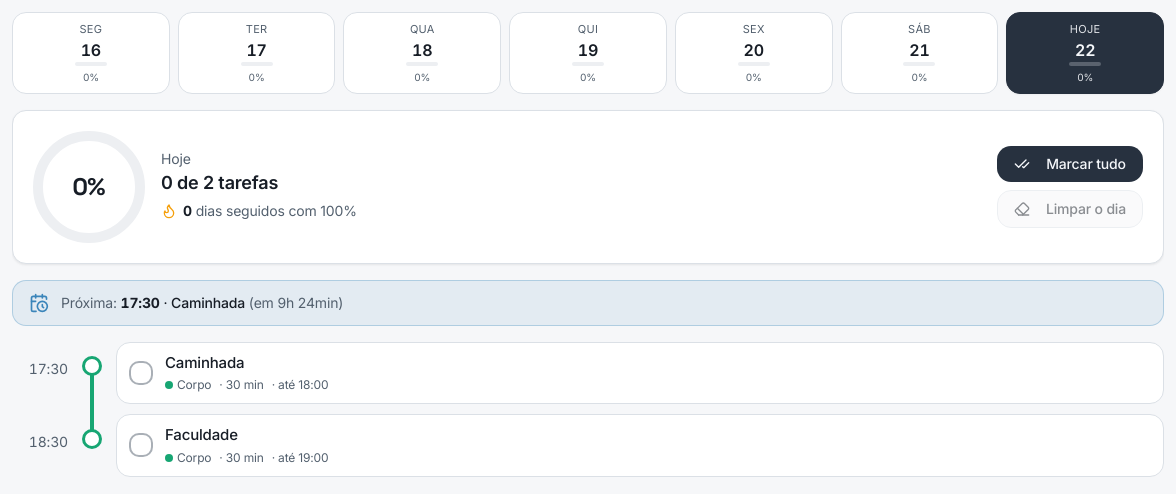
it: Rotina: marcar e desmarcar uma tarefa › atualiza a % na hora e grava a marcação
The width and height of the screenshot is (1176, 494).
Click the checkbox labelled "Caminhada Corpo · 30 min · até 18:00".
click(205, 362)  # box x1=116 y1=342 x2=1164 y2=404
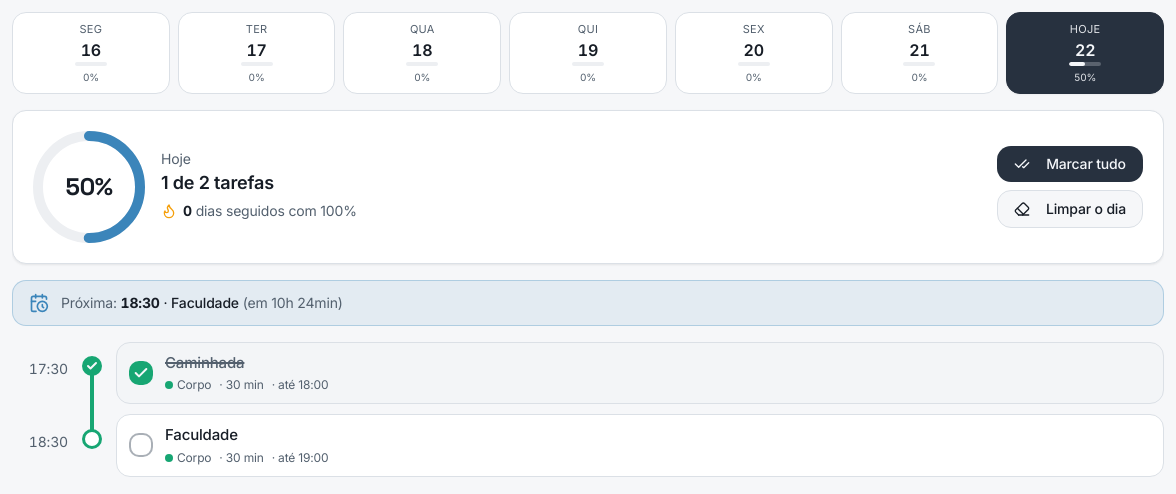
Expected: the text "1 de 2 tarefas" is shown, x1=161 y1=172 x2=274 y2=192
Click the checkbox labelled "Caminhada Corpo · 30 min · até 18:00".
click(205, 362)  # box x1=116 y1=342 x2=1164 y2=404
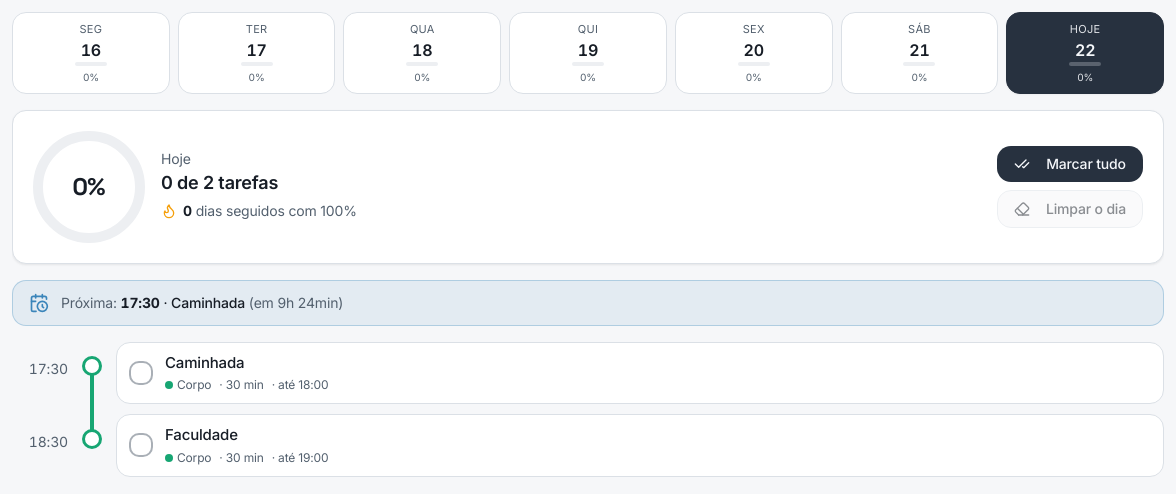
Expected: the checkbox labelled "Caminhada Corpo · 30 min · até 18:00" is not checked, x1=116 y1=342 x2=1164 y2=404
Expected: the progress indicator named "progresso" has attribute aria-valuenow="0", x1=33 y1=130 x2=145 y2=242
